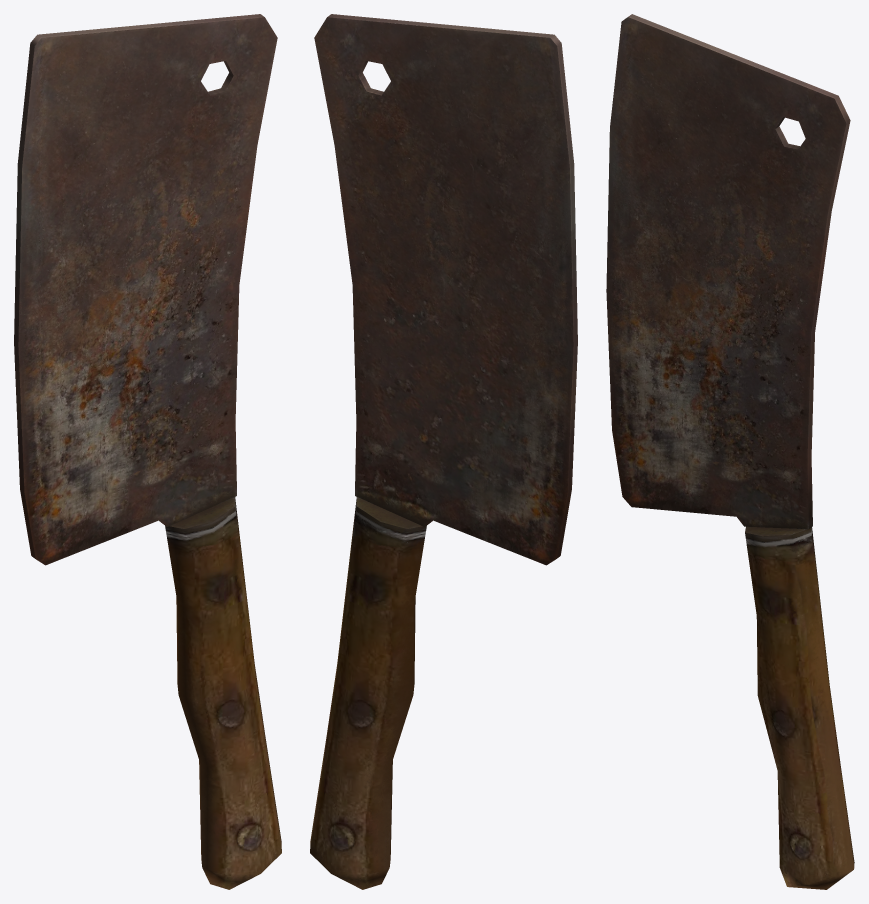
File: SM_PRP_Knife_Cleaver_01_A.glb
The picture shows the model from 3 angles, left to right: view 1: azimuth 30°, elevation 25°; view 2: azimuth 150°, elevation 25°; view 3: azimuth 330°, elevation 25°; orthographic projection. The views are drawn at different scales.
Parts seen in each view (by area): view 1: SM_PRP_Knife_Cleaver_01_A; view 2: SM_PRP_Knife_Cleaver_01_A; view 3: SM_PRP_Knife_Cleaver_01_A.
Part boxes in pixels (box(x1,y1,x2,y2)): SM_PRP_Knife_Cleaver_01_A: box(14, 14, 281, 889); SM_PRP_Knife_Cleaver_01_A: box(310, 14, 577, 889); SM_PRP_Knife_Cleaver_01_A: box(606, 14, 854, 889).
Bounding box in the file's own units: 0.096 × 0.3088 × 0.0183.
1 material, 1 textured.
